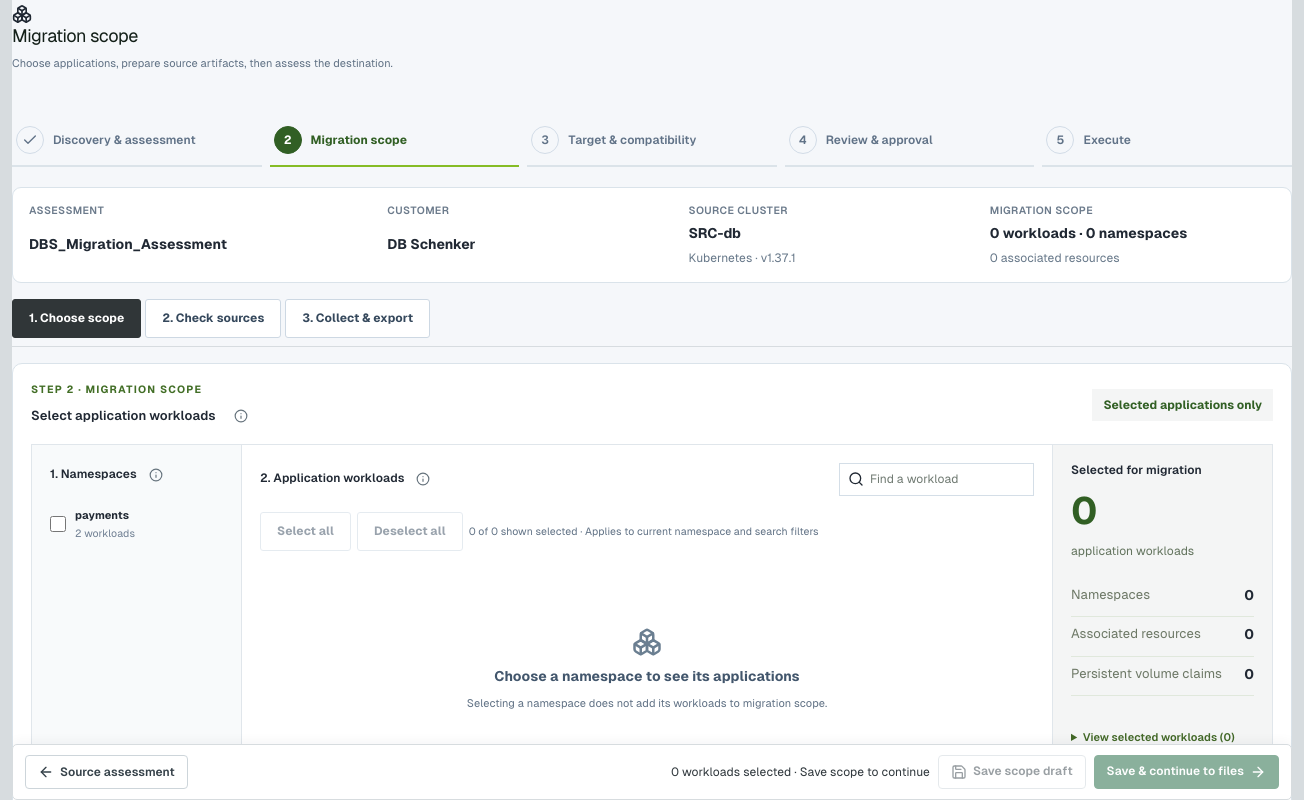
Test: does not advance to target selection after a failed scope save
Step 1. Click the checkbox → coordinates (58, 524), box [50,516,66,532]
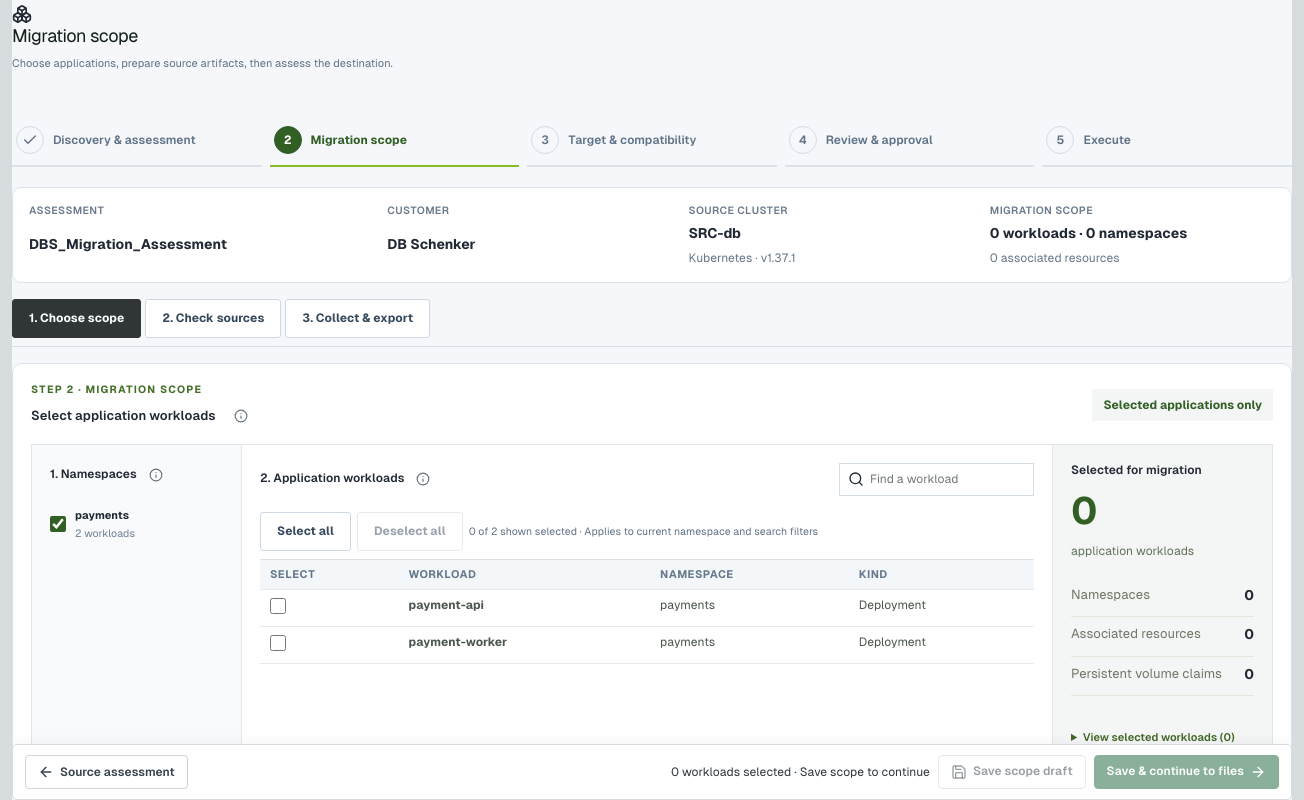
Step 2. Click the checkbox named "Migrate payments/payment-api" → coordinates (278, 606), box [270,598,286,614]
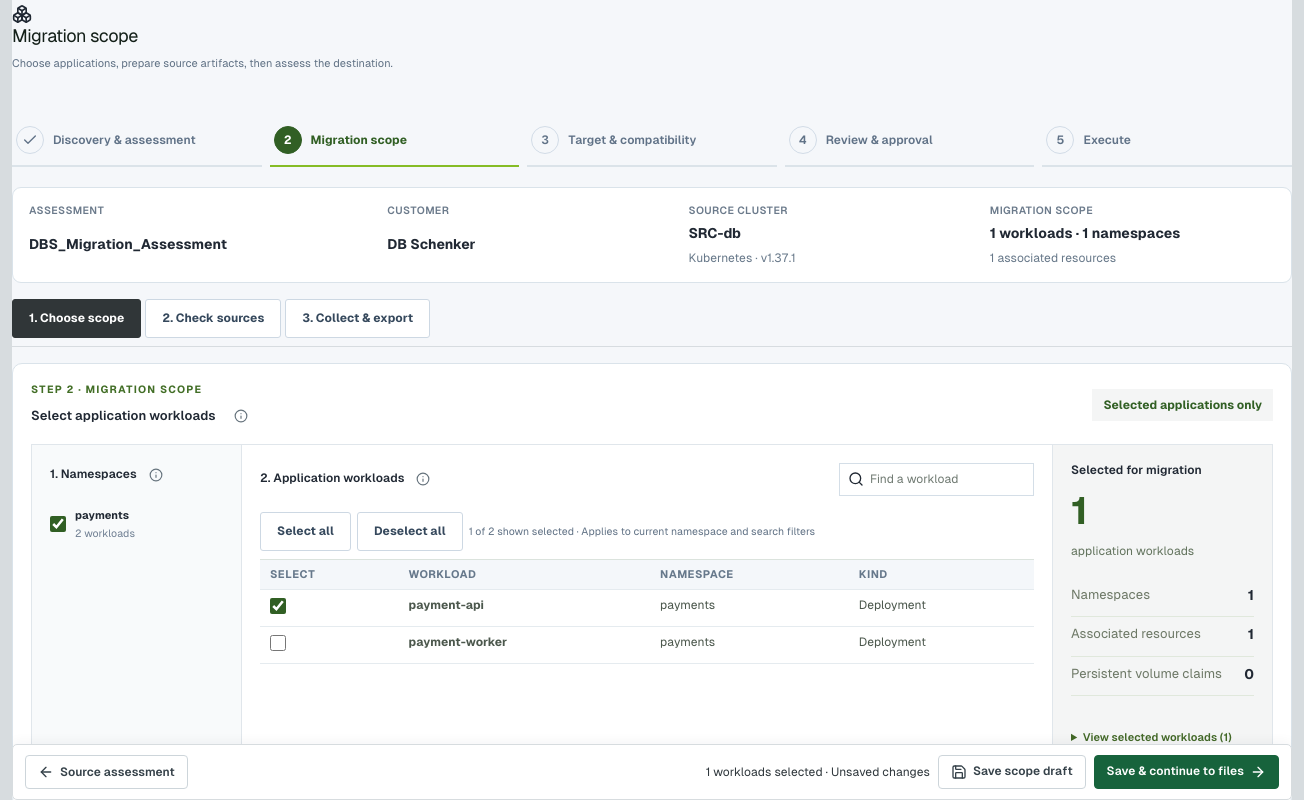
Step 3. Click the button "Save & continue to files" → coordinates (1186, 772), box [1094,755,1279,789]
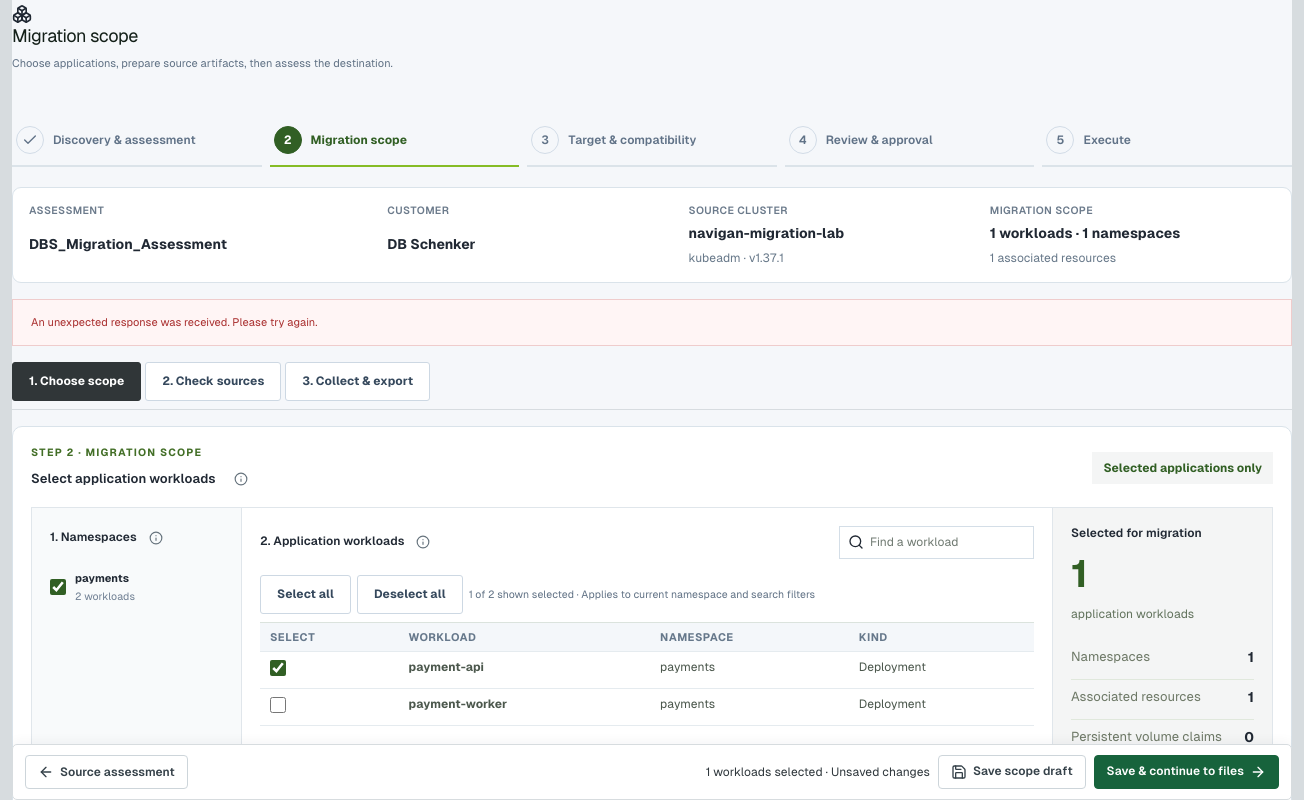
Expected: the message "An unexpected response was received. Please try again." is shown, [12,299,1292,346]
